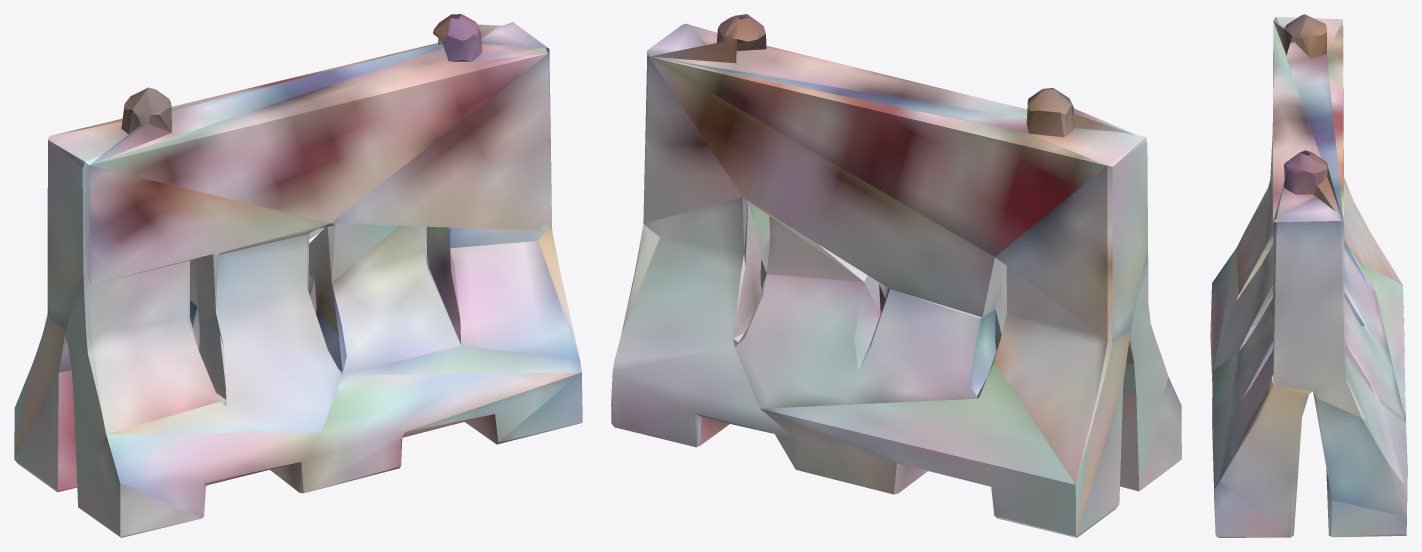
File: road-barrier.glb
3 renders of one model, left to right at view 1: azimuth 30°, elevation 25°; view 2: azimuth 150°, elevation 25°; view 3: azimuth 270°, elevation 25°, orthographic. The views are drawn at different scales.
Parts seen in each view (by area): view 1: Mesh_0.10375; view 2: Mesh_0.10375; view 3: Mesh_0.10375.
Boxes of the visible parts, x1,y1,x2,y2 form: Mesh_0.10375: (14, 14, 582, 537); Mesh_0.10375: (611, 14, 1181, 537); Mesh_0.10375: (1210, 14, 1407, 537).
Bounding box in the file's own units: 0.9974 × 0.8 × 0.4037.
Materials: 1 (1 with a texture image).
